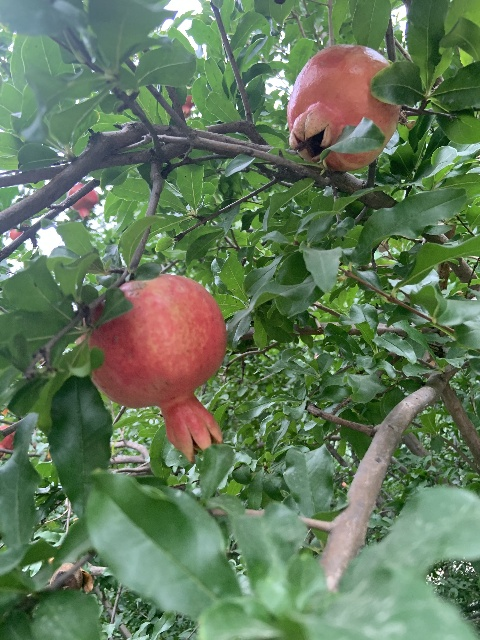ripe: (85, 274, 226, 463), (286, 44, 401, 171), (67, 183, 98, 218), (181, 95, 195, 118)
